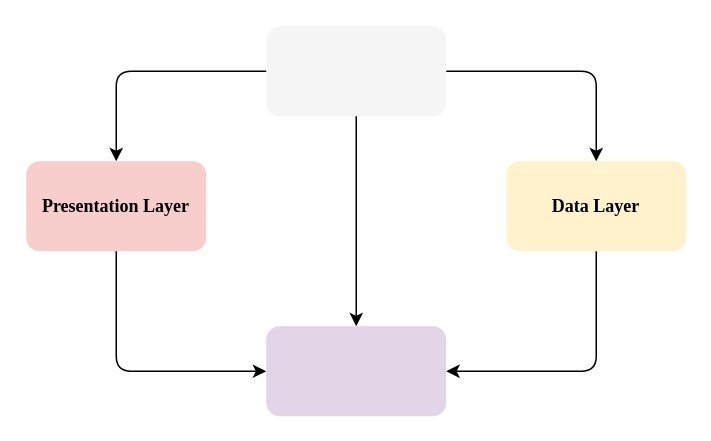
Image size: 711x441. Some labels were removed from this diagram. The shapes that lost their labels are listed below. From the top down, each one's centre as x and y in pixels, then its label:
At [356,71]: "APP Layer".
At [356,371]: "Domain Layer".
